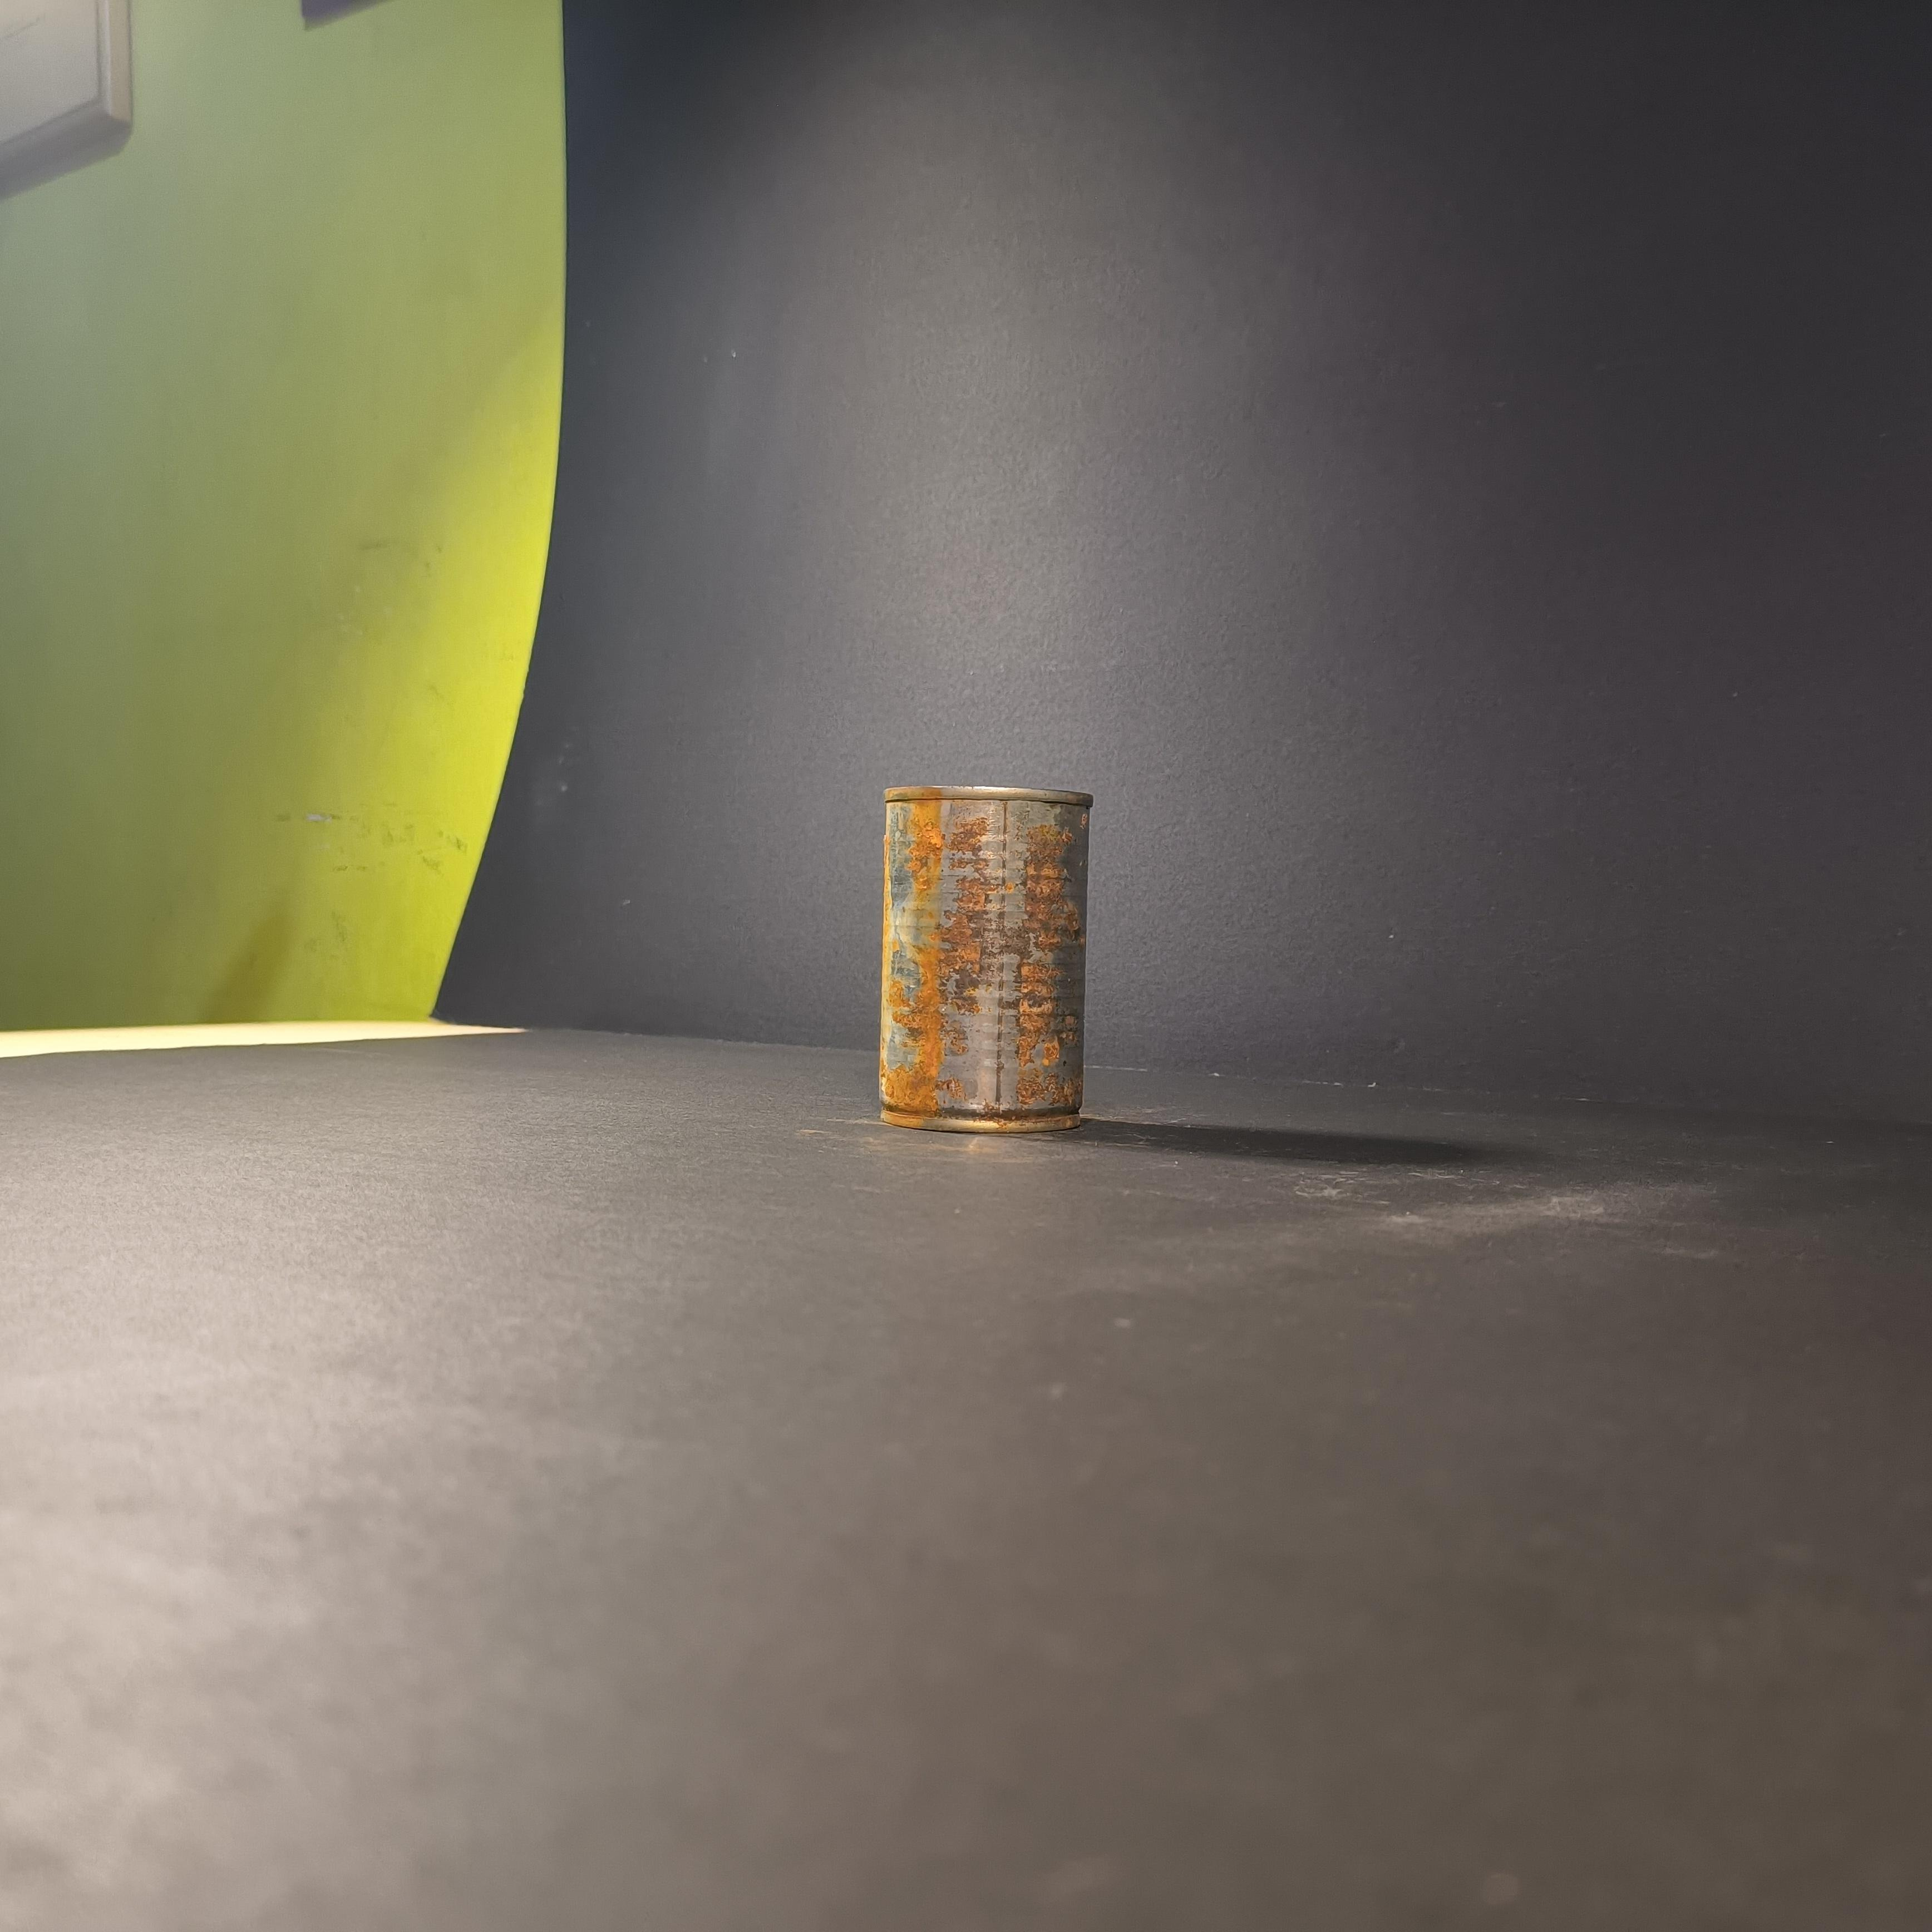Rusted: (863, 757, 1108, 1143)
